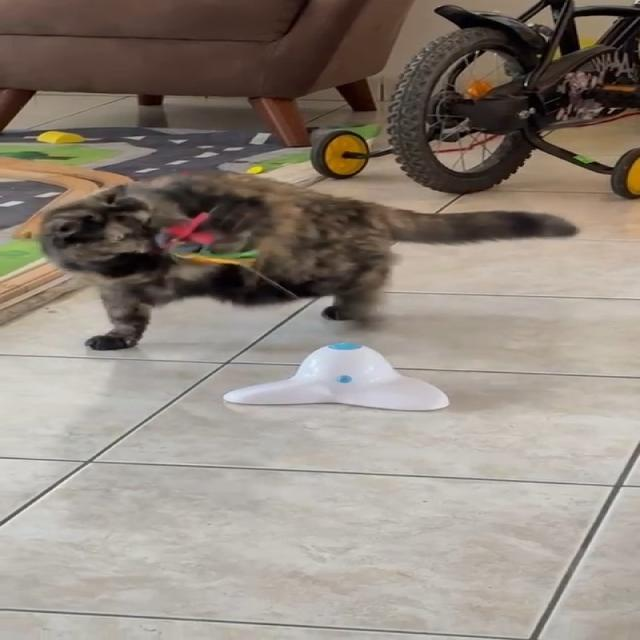authorized: (39, 168, 578, 350)
